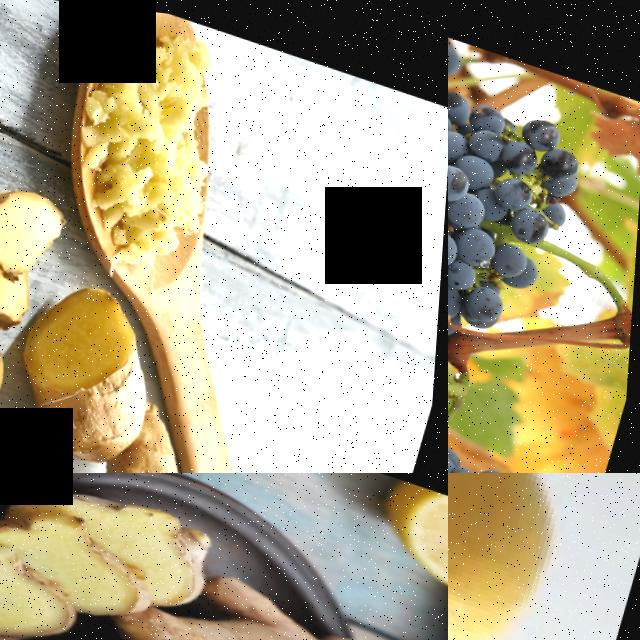ginger: (0, 569, 299, 640)
grapes: (448, 3, 583, 319)
lemon: (448, 473, 596, 640), (356, 473, 448, 592)
